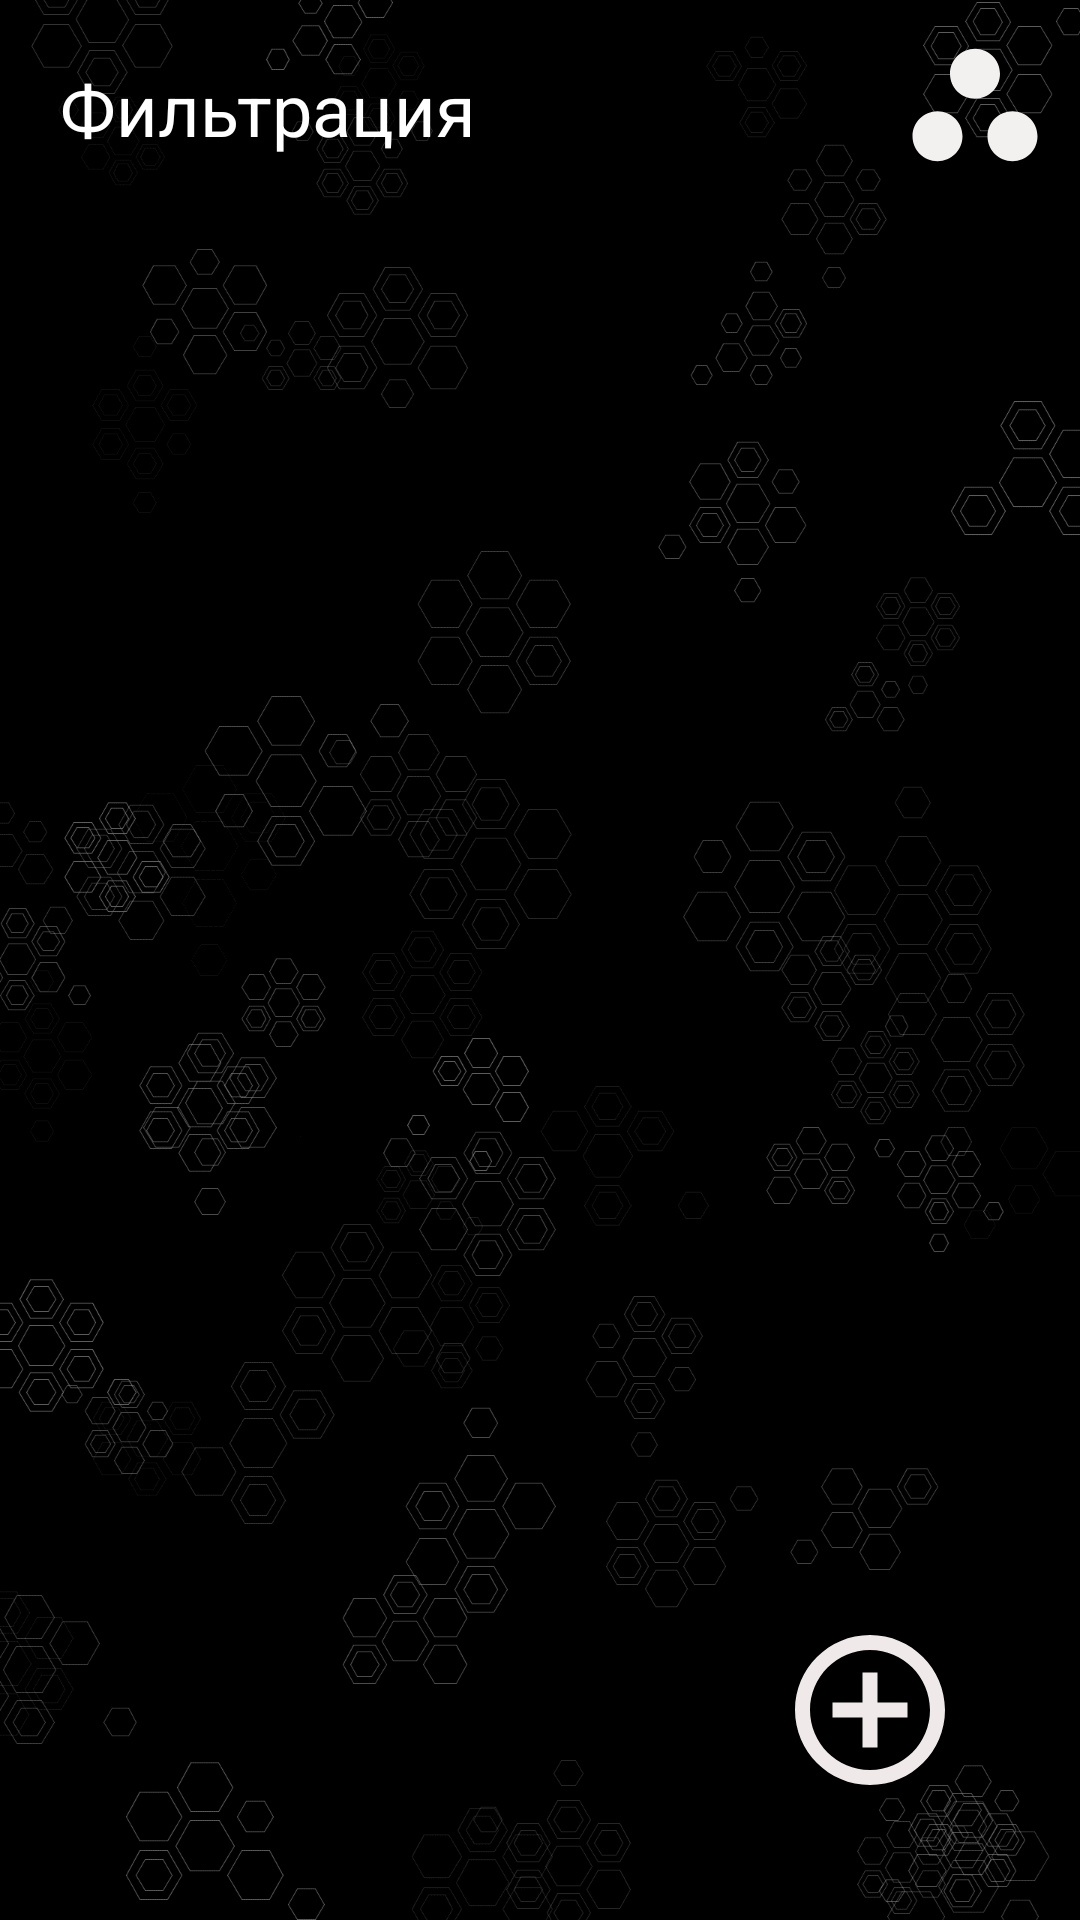

Where to tap for icons on this 1080 x 1920 app screen, as (x=x, y=y):
add: (x=870, y=1710)
